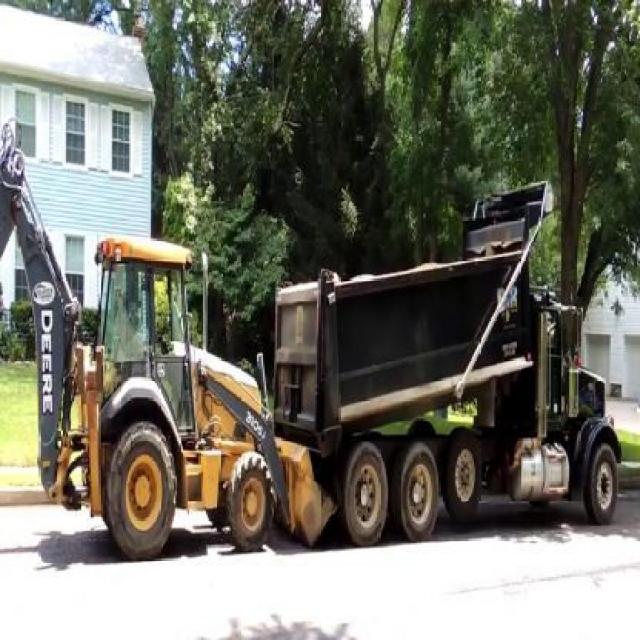Dump Truck: (272, 145, 622, 458)
